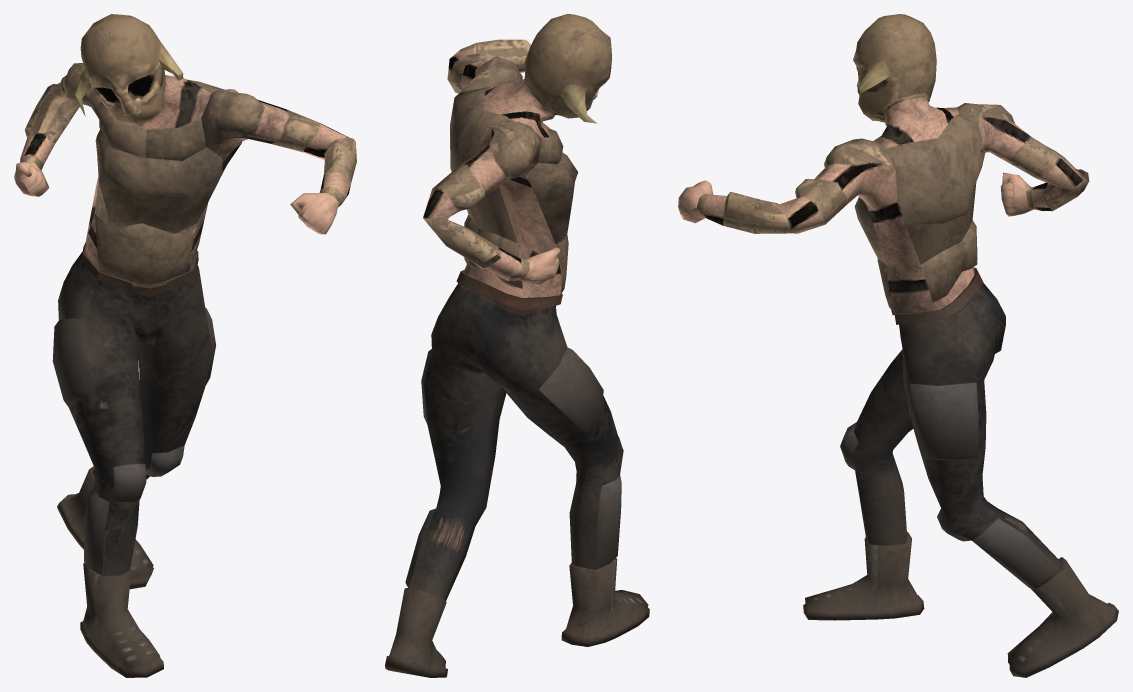
File: Anim_ataque_d2_npc1.0036.obj
3 views of the same model, side by side, from view 1: azimuth 30°, elevation 25°; view 2: azimuth 150°, elevation 25°; view 3: azimuth 270°, elevation 25° (orthographic). The views are drawn at different scales.
Parts seen in each view (by area): view 1: NPC2; view 2: NPC2; view 3: NPC2.
Part boxes in pixels (x1,y1,x2,y2): NPC2: (14,14,356,677); NPC2: (385,14,649,677); NPC2: (678,14,1118,677).
Bounding box in the file's own units: 3.32 × 9.08 × 5.87.
